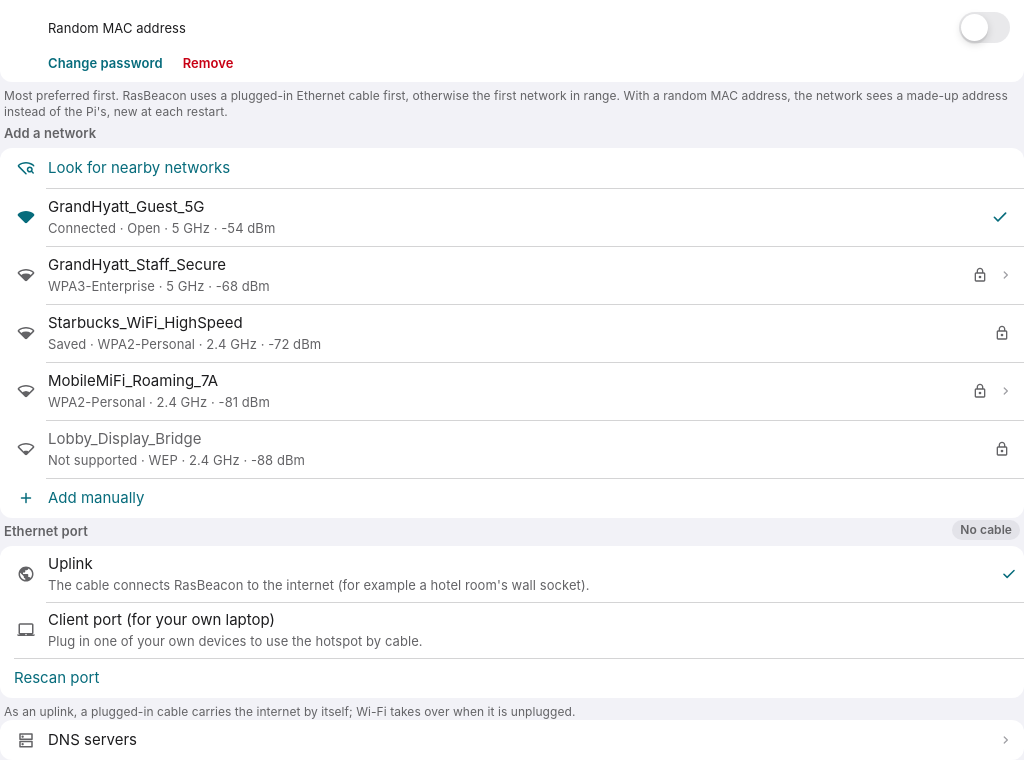
Test: adding a network › shows a problem next to its field until the field changes
(page scrolled)
Click the button "Add manually" at [96, 498], box x1=0 y1=478 x2=1023 y2=518
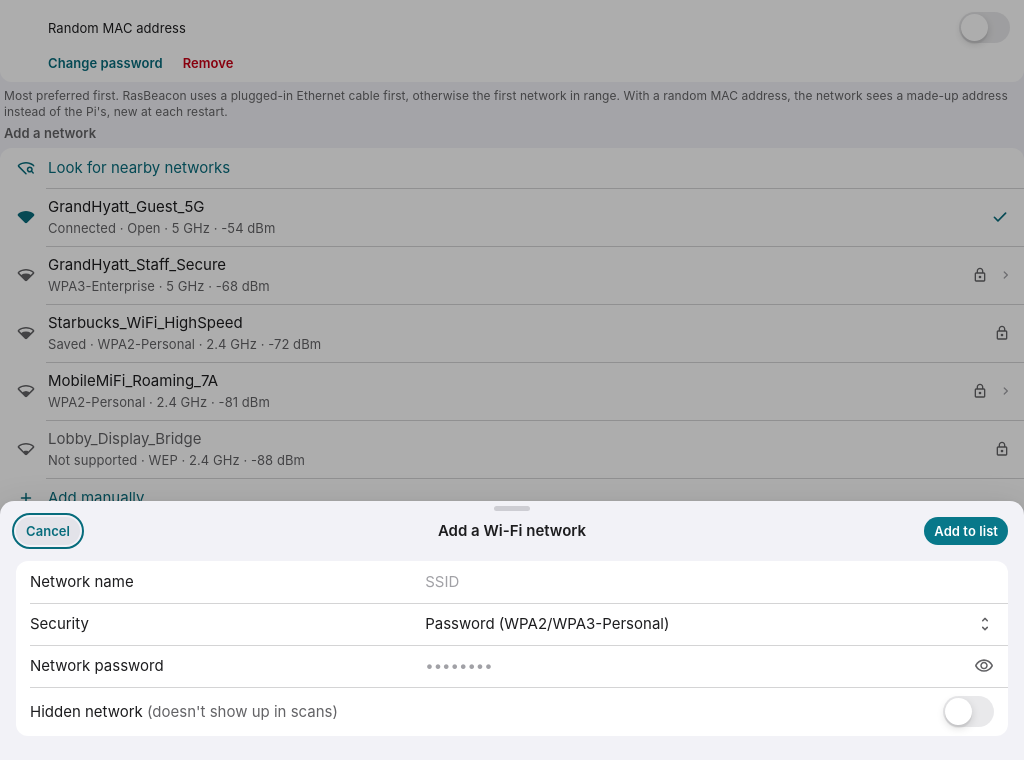
Type "eduroam" into the field labelled "Network name" at [710, 582], box x1=425 y1=570 x2=994 y2=594
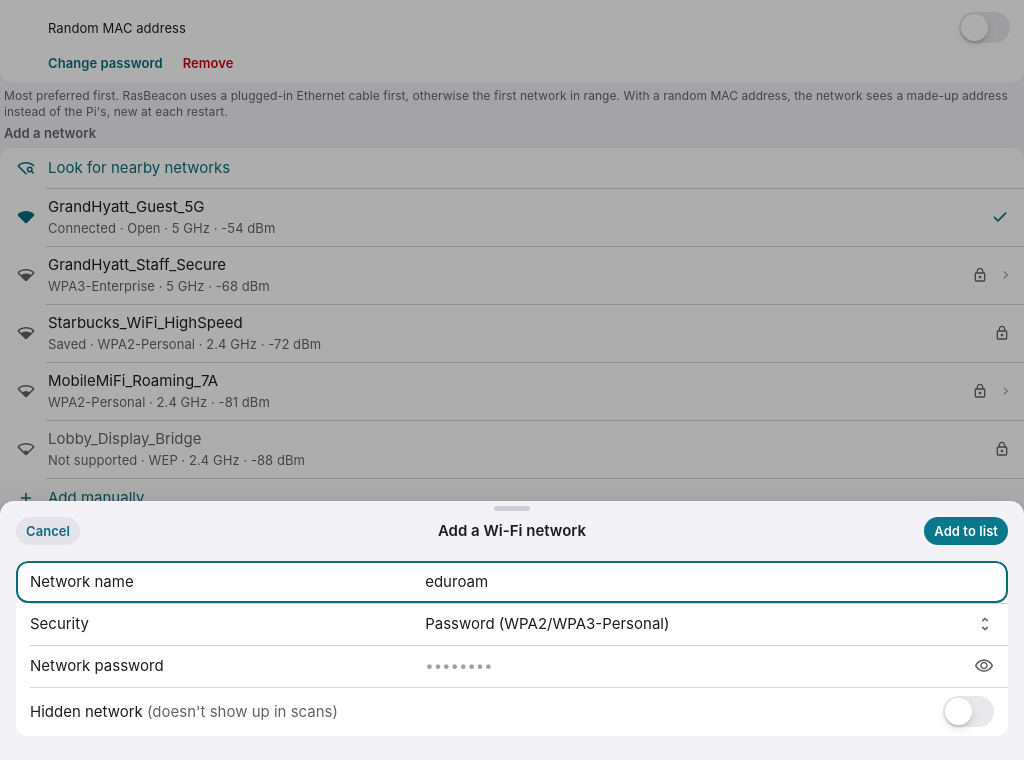
Click the button "Add to list" at [966, 531], box x1=924 y1=517 x2=1008 y2=545
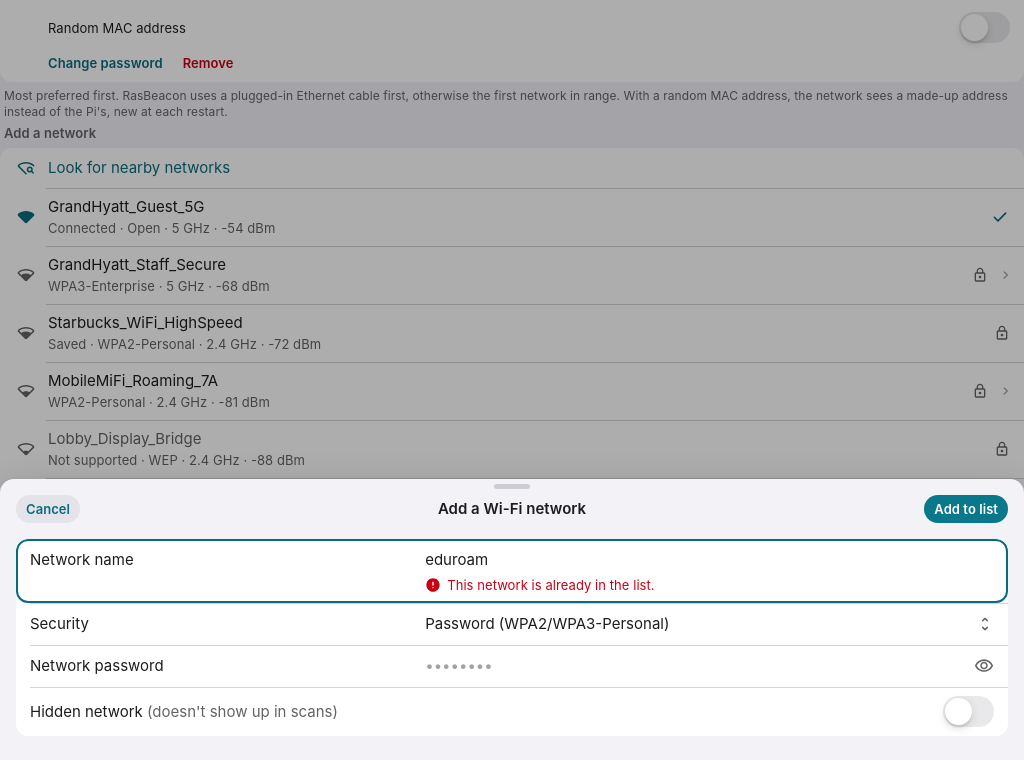
Result: the text "This network is already in the list." is shown at x1=447 y1=576 x2=655 y2=594
Type "2" into the field labelled "Network name" at [710, 560], box x1=425 y1=548 x2=994 y2=572
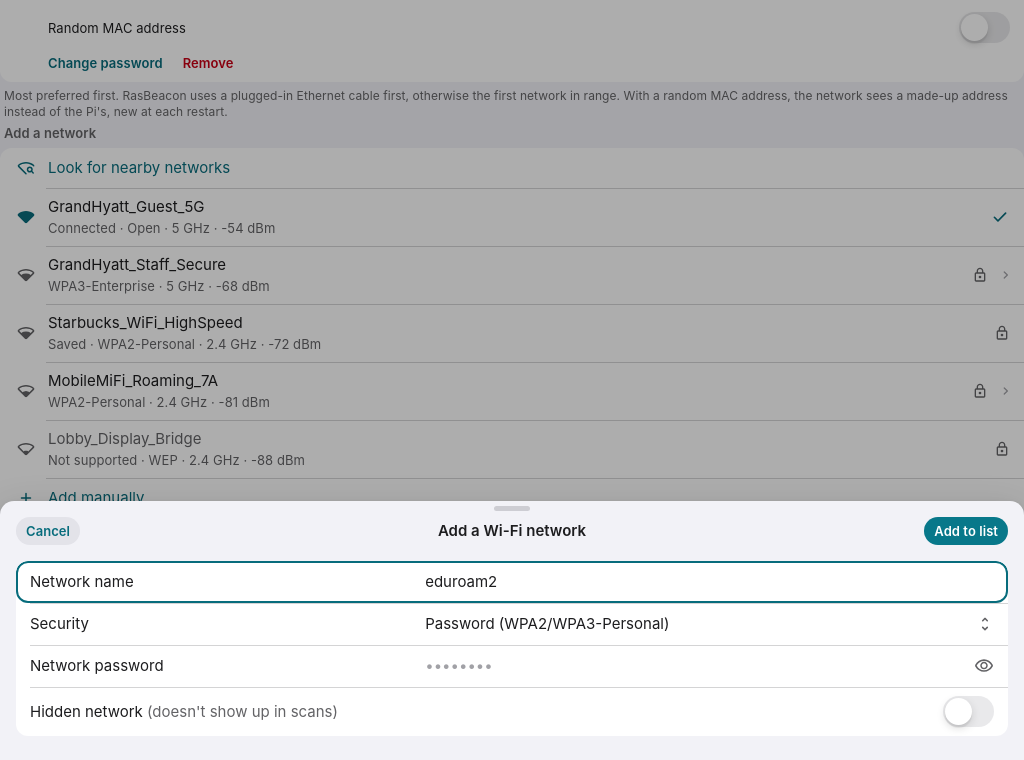
Result: the text "This network is already in the list." is gone
